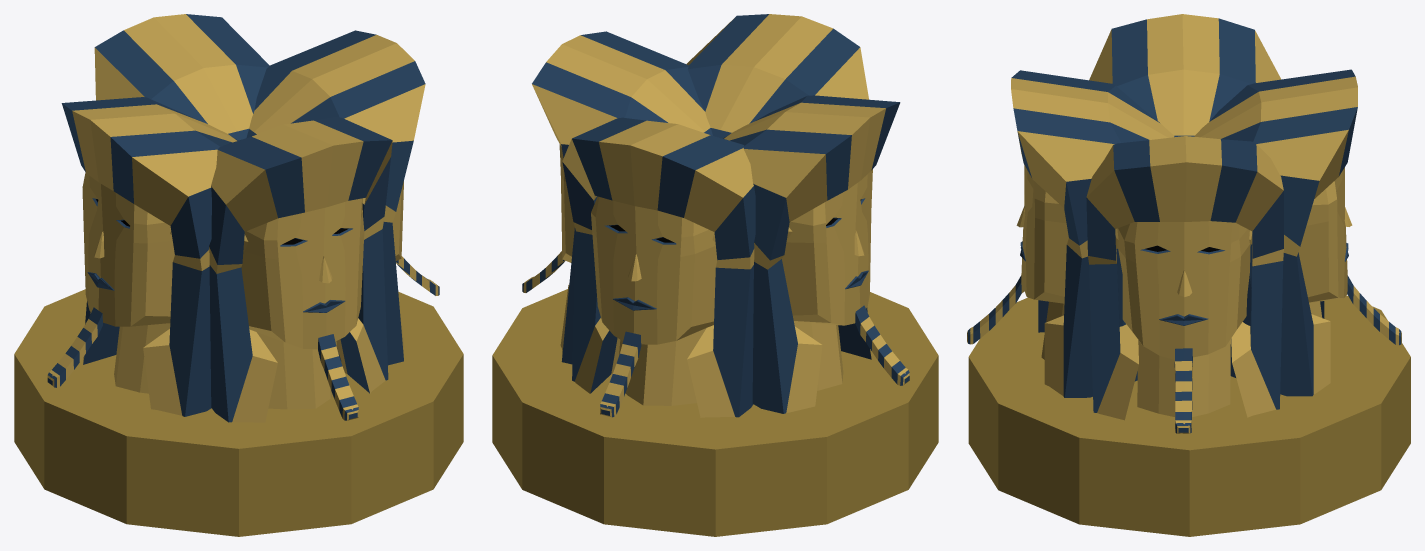
The model's file is MumyaBaslıgı.fbx.
The picture shows the model from 3 angles, left to right: view 1: azimuth 30°, elevation 25°; view 2: azimuth 150°, elevation 25°; view 3: azimuth 270°, elevation 25°; orthographic projection.
Visible parts, largest first — view 1: Cube.008; view 2: Cube.008; view 3: Cube.008.
Part boxes in pixels (x1,y1,x2,y2): Cube.008: (14, 14, 463, 536); Cube.008: (492, 14, 938, 536); Cube.008: (967, 14, 1410, 536).
Bounding box in the file's own units: 77.83 × 69.12 × 78.02.
